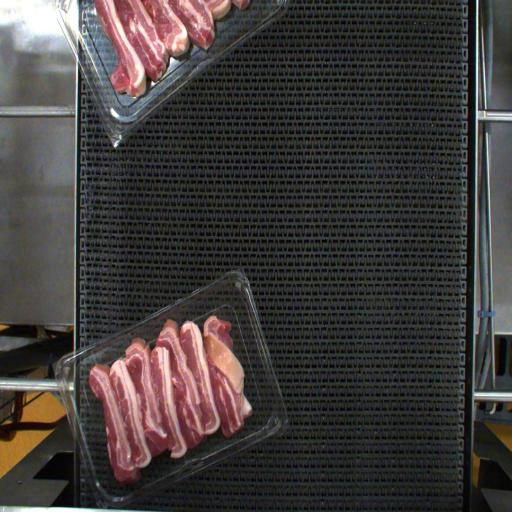twisted-meat: (207, 313, 251, 435)
